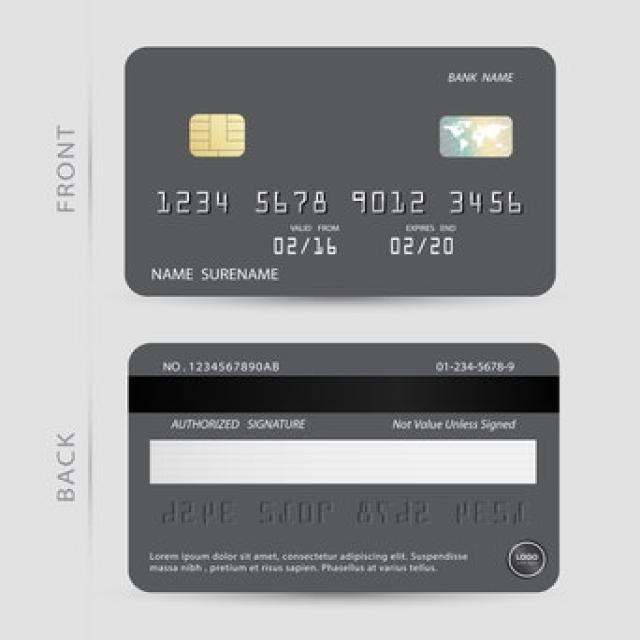payment_card: (123, 44, 557, 297), (126, 341, 560, 594)
